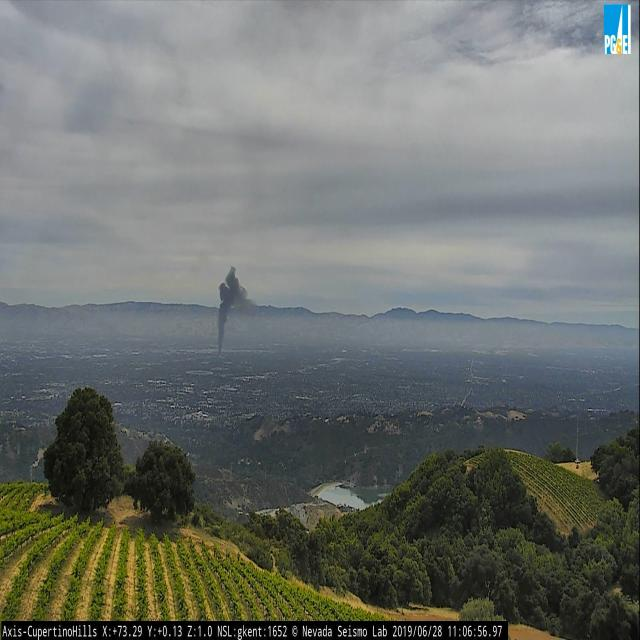smoke: (217, 263, 254, 356)
